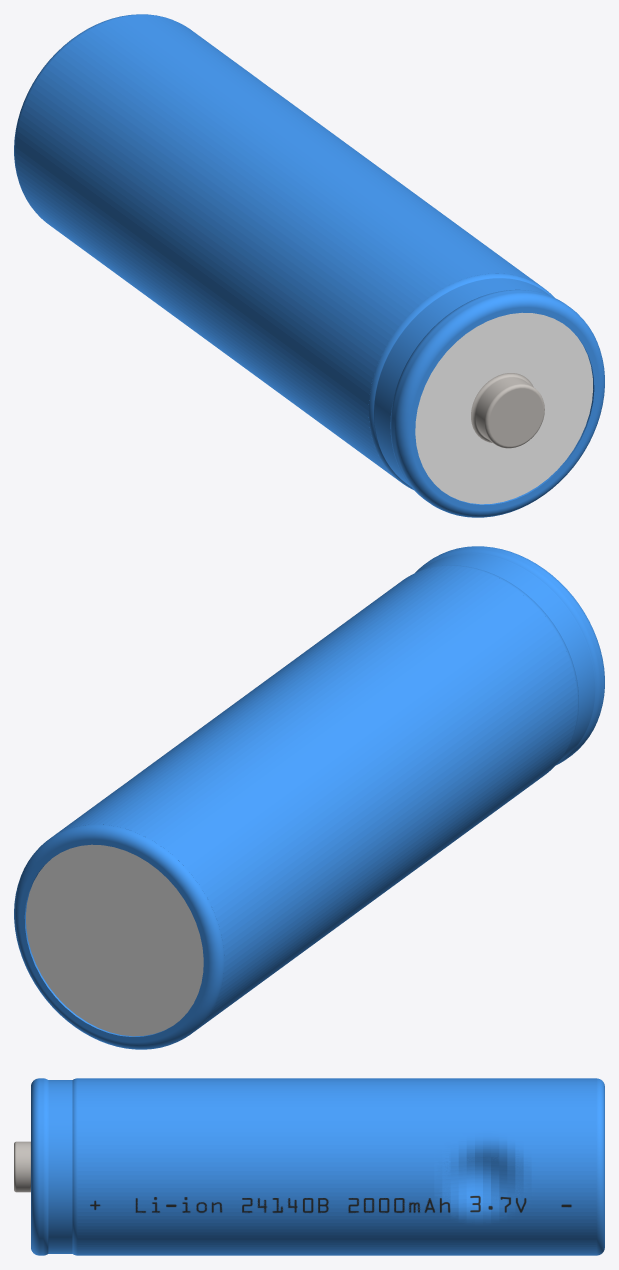
The model's file is defect_2.glb.
The picture shows the model from 3 angles, top to bottom: view 1: azimuth 30°, elevation 25°; view 2: azimuth 150°, elevation 25°; view 3: azimuth 270°, elevation 25°; orthographic projection. The views are drawn at different scales.
Parts seen in each view (by area): view 1: Cylinder, Cell_Top; view 2: Cylinder, Cell_bottom, Cell_Top; view 3: Cylinder, Cell_Top, Cell_bottom.
Part boxes in pixels (x1=…): Cylinder: x1=15, y1=15, x2=550, y2=480; Cell_Top: x1=368, y1=273, x2=604, y2=517; Cylinder: x1=41, y1=566, x2=577, y2=1031; Cell_bottom: x1=14, y1=824, x2=224, y2=1049; Cell_Top: x1=415, y1=546, x2=604, y2=765; Cylinder: x1=77, y1=1078, x2=596, y2=1255; Cell_Top: x1=14, y1=1078, x2=77, y2=1255; Cell_bottom: x1=596, y1=1078, x2=604, y2=1255.
Size of the model in its own units: 0.021 by 0.021 by 0.07.
10 materials, 1 textured.
